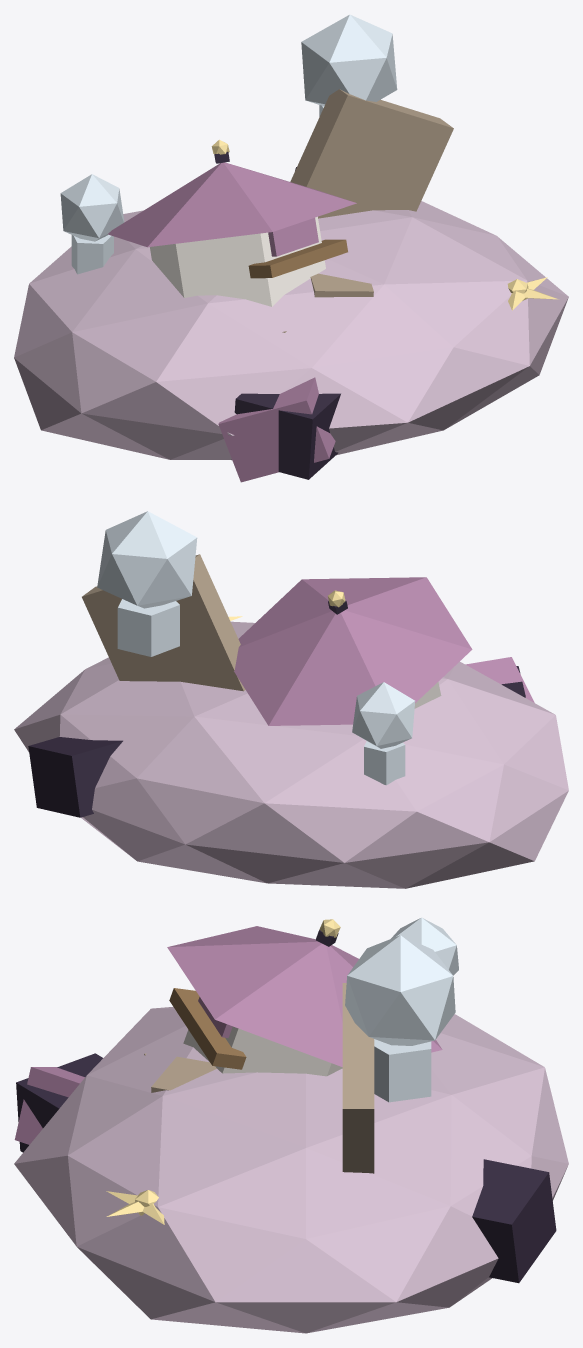
Rendered from city-ruin.glb.
The picture shows the model from 3 angles, top to bottom: view 1: azimuth 30°, elevation 25°; view 2: azimuth 150°, elevation 25°; view 3: azimuth 270°, elevation 25°; orthographic projection. The views are drawn at different scales.
Visible parts, largest first — view 1: city-ruin; view 2: city-ruin; view 3: city-ruin.
Part boxes in pixels (<box>): city-ruin: <box>14,14,568,482</box>; city-ruin: <box>14,511,568,888</box>; city-ruin: <box>14,917,568,1333</box>.
Size of the model in its own units: 1.22 by 0.7221 by 1.06.
